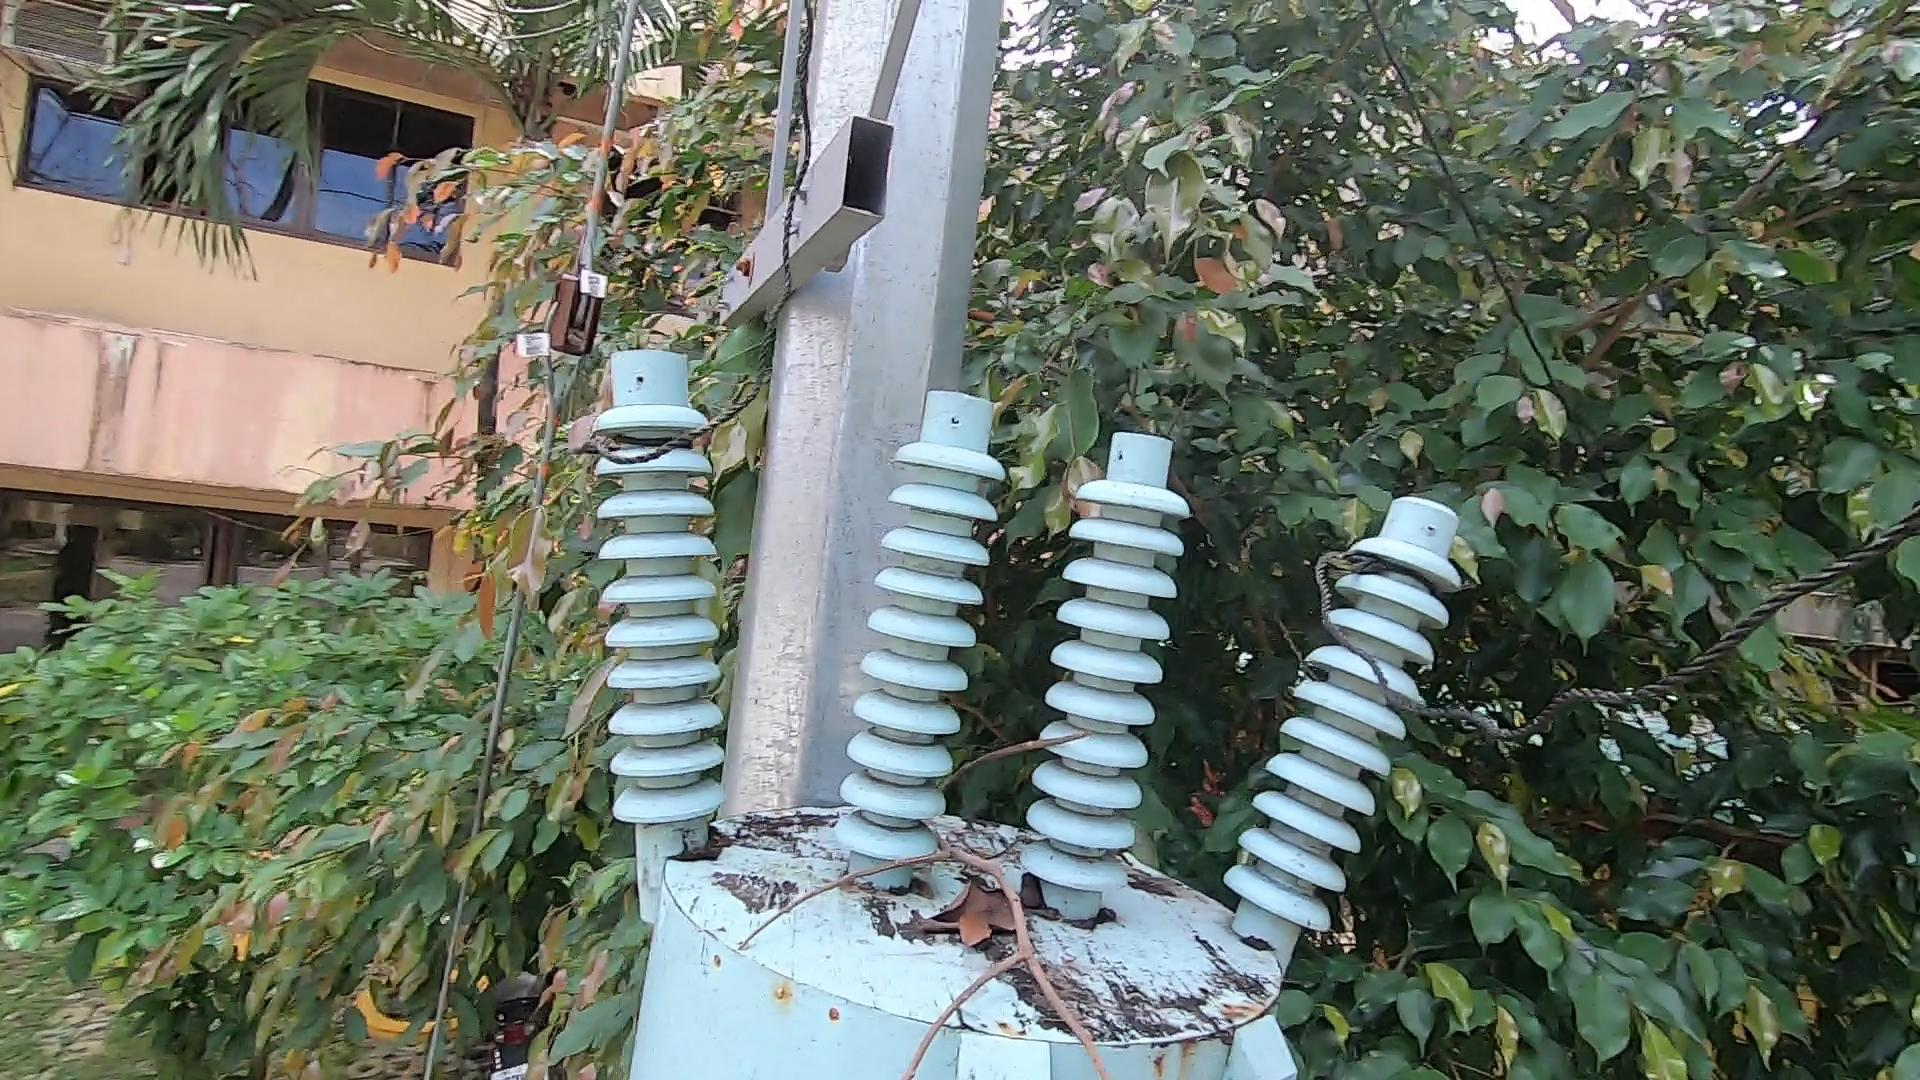leaf: (906, 857, 1056, 952), (676, 816, 735, 876)
tree branch: (709, 725, 1131, 1080)
